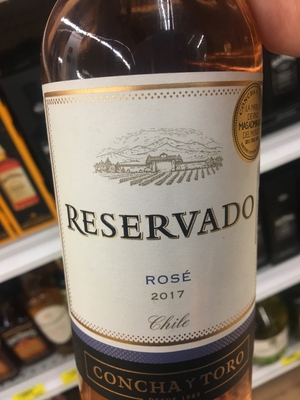reservado rose: (43, 10, 281, 400)
